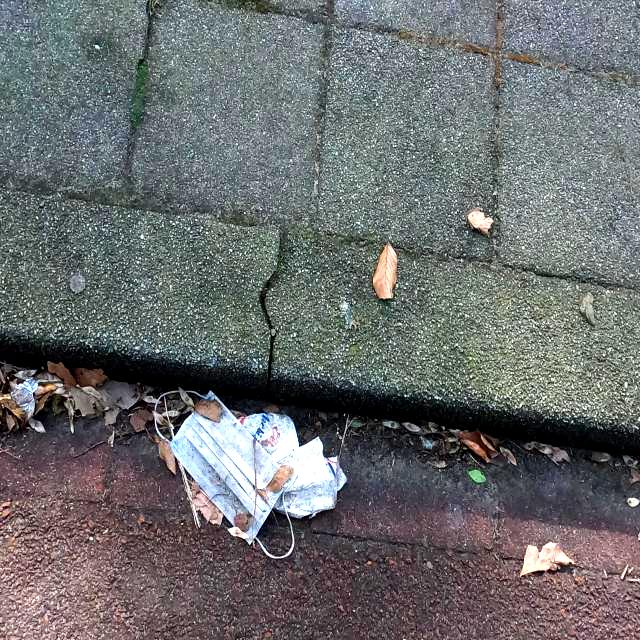Mask: (152, 383, 296, 562)
Paper: (274, 434, 348, 518), (236, 412, 298, 462)
